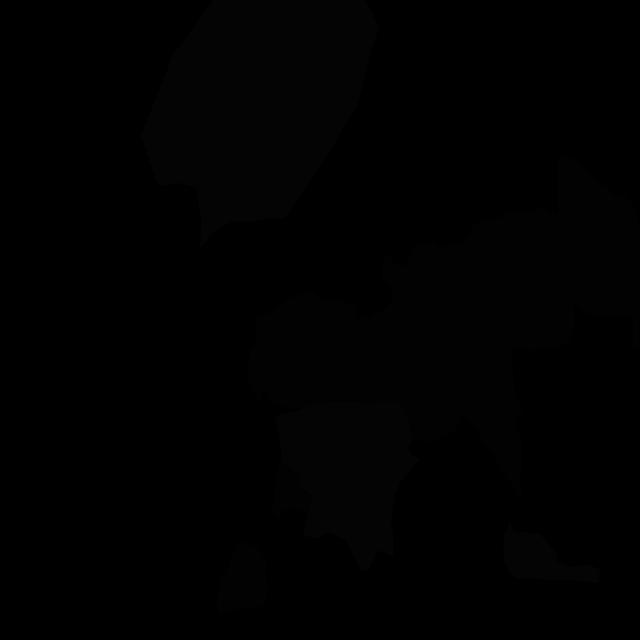cardboard: (246, 208, 575, 442), (557, 156, 640, 353), (477, 360, 523, 502), (216, 540, 268, 615), (272, 457, 311, 520)
soft_plastic: (141, 0, 379, 248), (275, 401, 420, 570), (503, 523, 600, 583)
